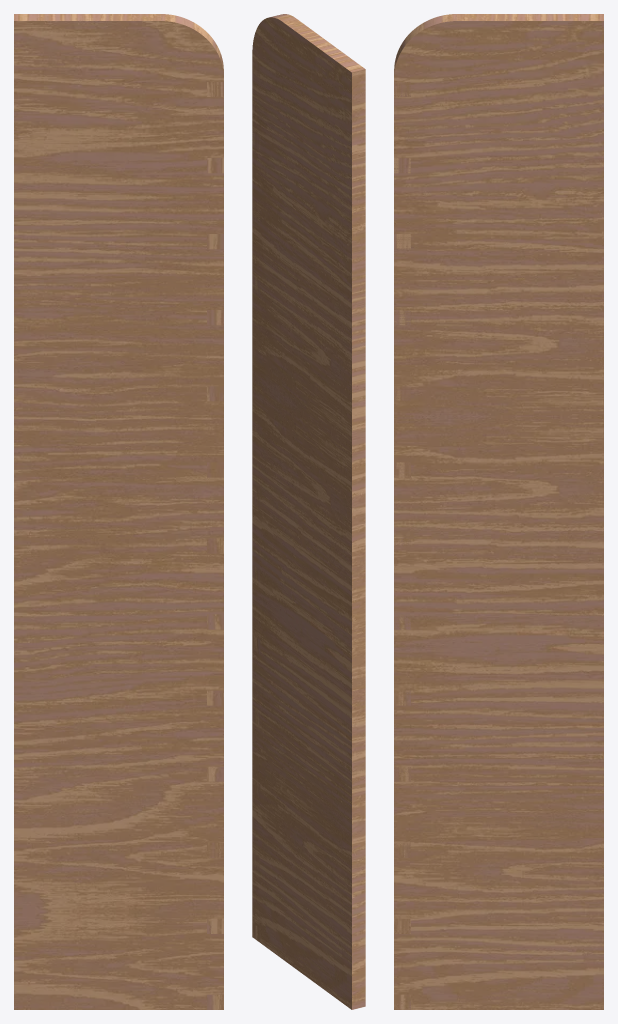
Rendered from Support_013-transformed.glb.
The picture shows the model from 3 angles, left to right: view 1: azimuth 90°, elevation 25°; view 2: azimuth 210°, elevation 25°; view 3: azimuth 270°, elevation 25°; orthographic projection. The views are drawn at different scales.
Parts seen in each view (by area): view 1: Main; view 2: Main; view 3: Main.
Part boxes in pixels (left/top/right/bottom): Main: left=14, top=14, right=223, bottom=1009; Main: left=252, top=14, right=365, bottom=1009; Main: left=394, top=14, right=603, bottom=1009.
Size of the model in its own units: 0.02 by 1.3 by 0.25.
1 material, 1 textured.
